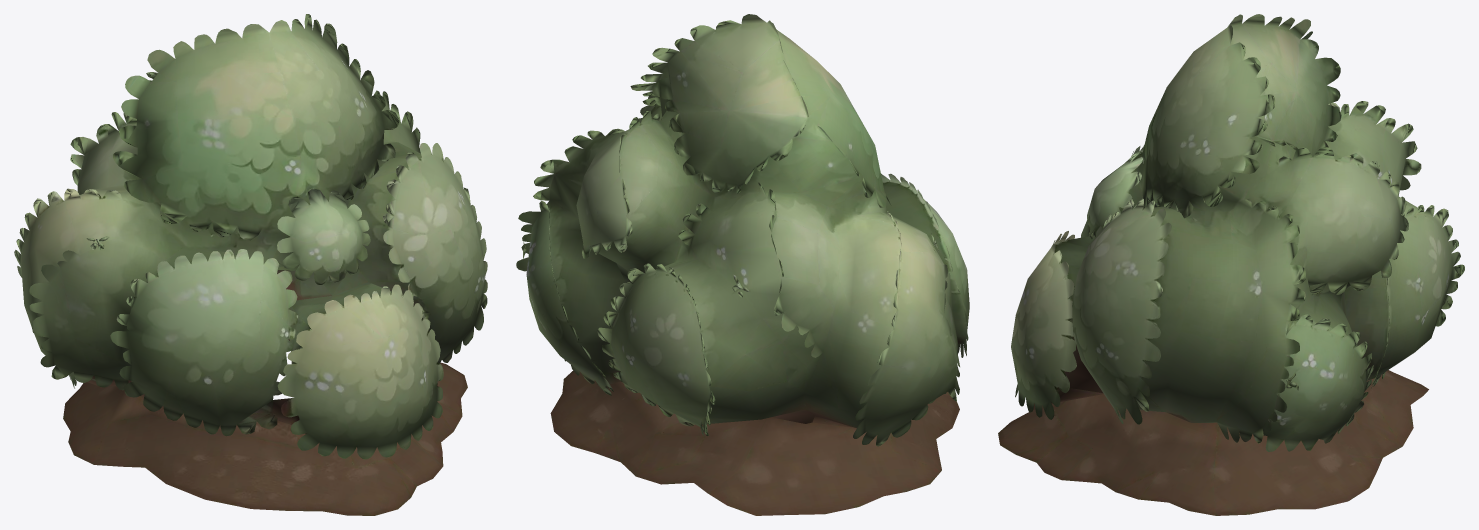
The model's file is nat_bush_a_v1.glb.
3 views of the same model, side by side, from view 1: azimuth 30°, elevation 25°; view 2: azimuth 150°, elevation 25°; view 3: azimuth 270°, elevation 25° (orthographic). The views are drawn at different scales.
Visible parts, largest first — view 1: tripo_node_7cdeba88-0e21-40ba-af79-65f449180318; view 2: tripo_node_7cdeba88-0e21-40ba-af79-65f449180318; view 3: tripo_node_7cdeba88-0e21-40ba-af79-65f449180318.
Boxes of the visible parts, x1,y1,x2,y2 form: tripo_node_7cdeba88-0e21-40ba-af79-65f449180318: (14, 14, 487, 515); tripo_node_7cdeba88-0e21-40ba-af79-65f449180318: (516, 14, 969, 515); tripo_node_7cdeba88-0e21-40ba-af79-65f449180318: (998, 14, 1464, 515).
Size of the model in its own units: 0.998 by 0.9082 by 0.9238.
Materials: 1 (1 with a texture image).
